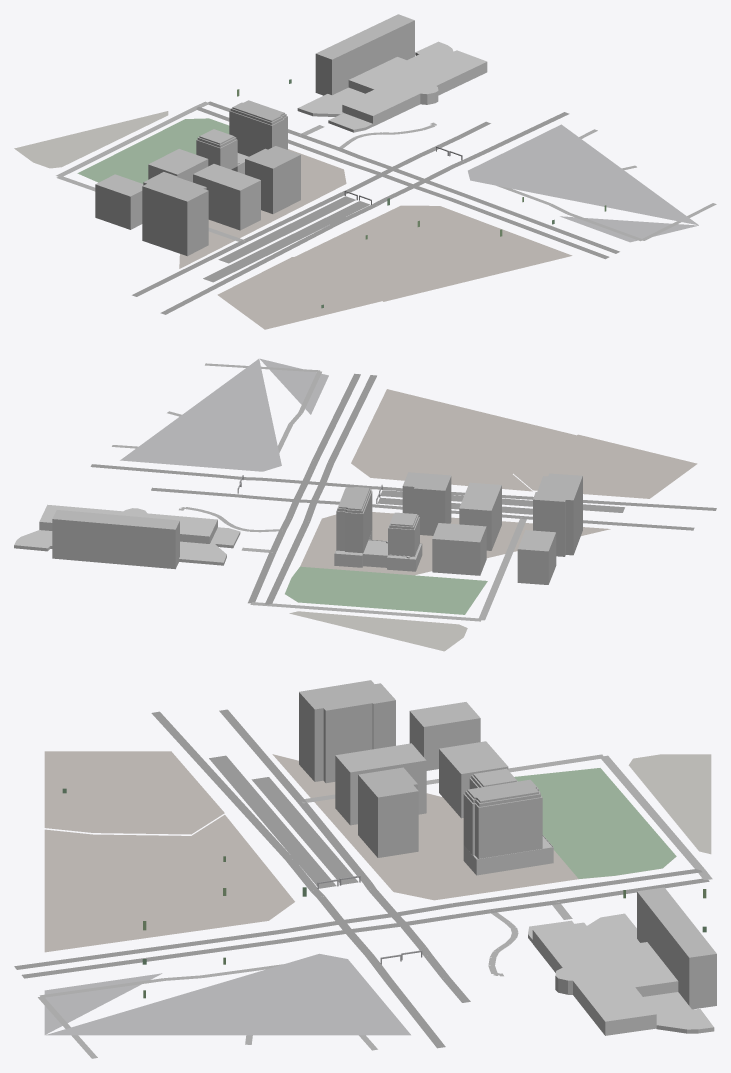
3 renders of one model, top to bottom at view 1: azimuth 30°, elevation 25°; view 2: azimuth 150°, elevation 25°; view 3: azimuth 270°, elevation 25°, orthographic. The views are drawn at different scales.
Bounding box in the file's own units: 615 × 62.44 × 527.
